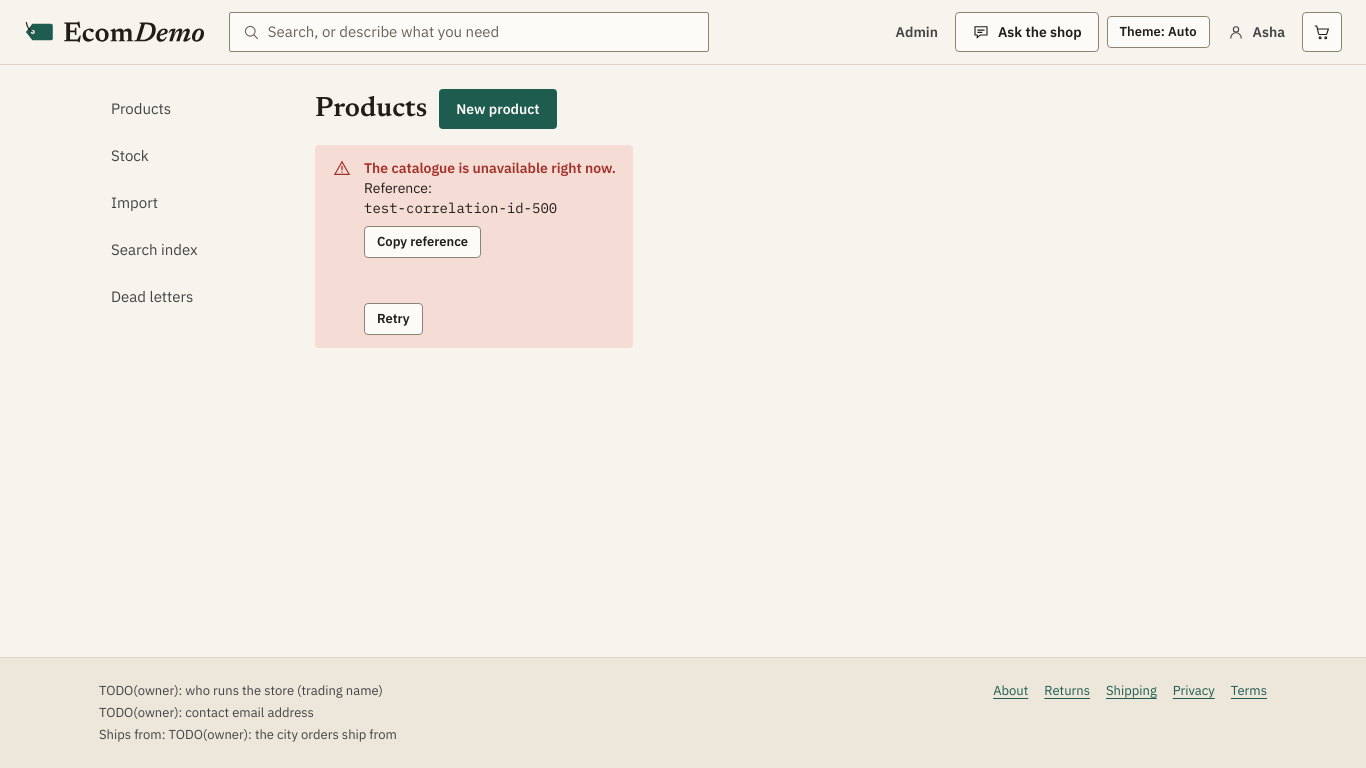
Test: when a list cannot load › products: says why, with a reference, and Retry asks again
Expected: the text "The catalogue is unavailable right now." is shown, [364,158,616,178]
Expected: the text "test-correlation-id-500" is shown, [364,199,557,217]
Click the button "Retry" at [393, 319], box [364,303,423,335]
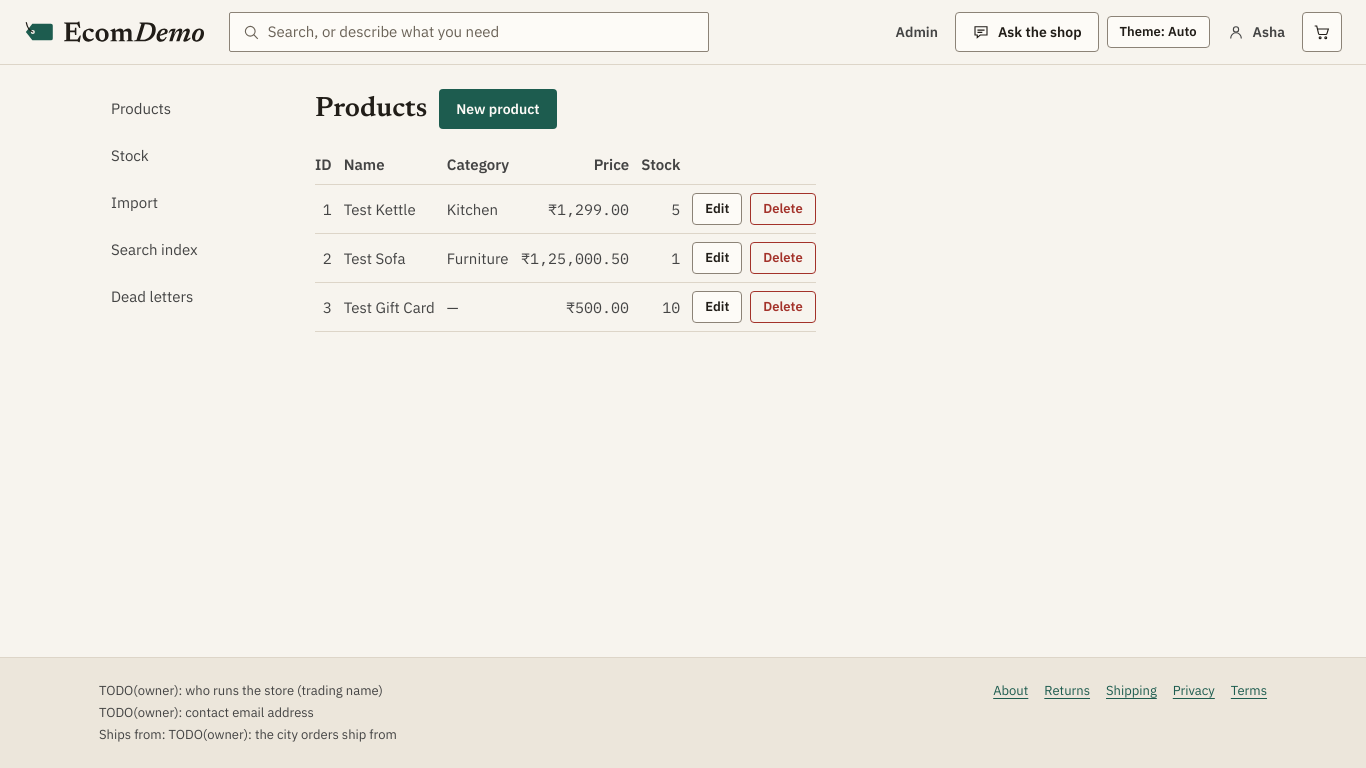
Expected: the row "1 Test Kettle Kitchen ₹1,299.00 5 Edit Delete" is shown, [315,184,816,234]
